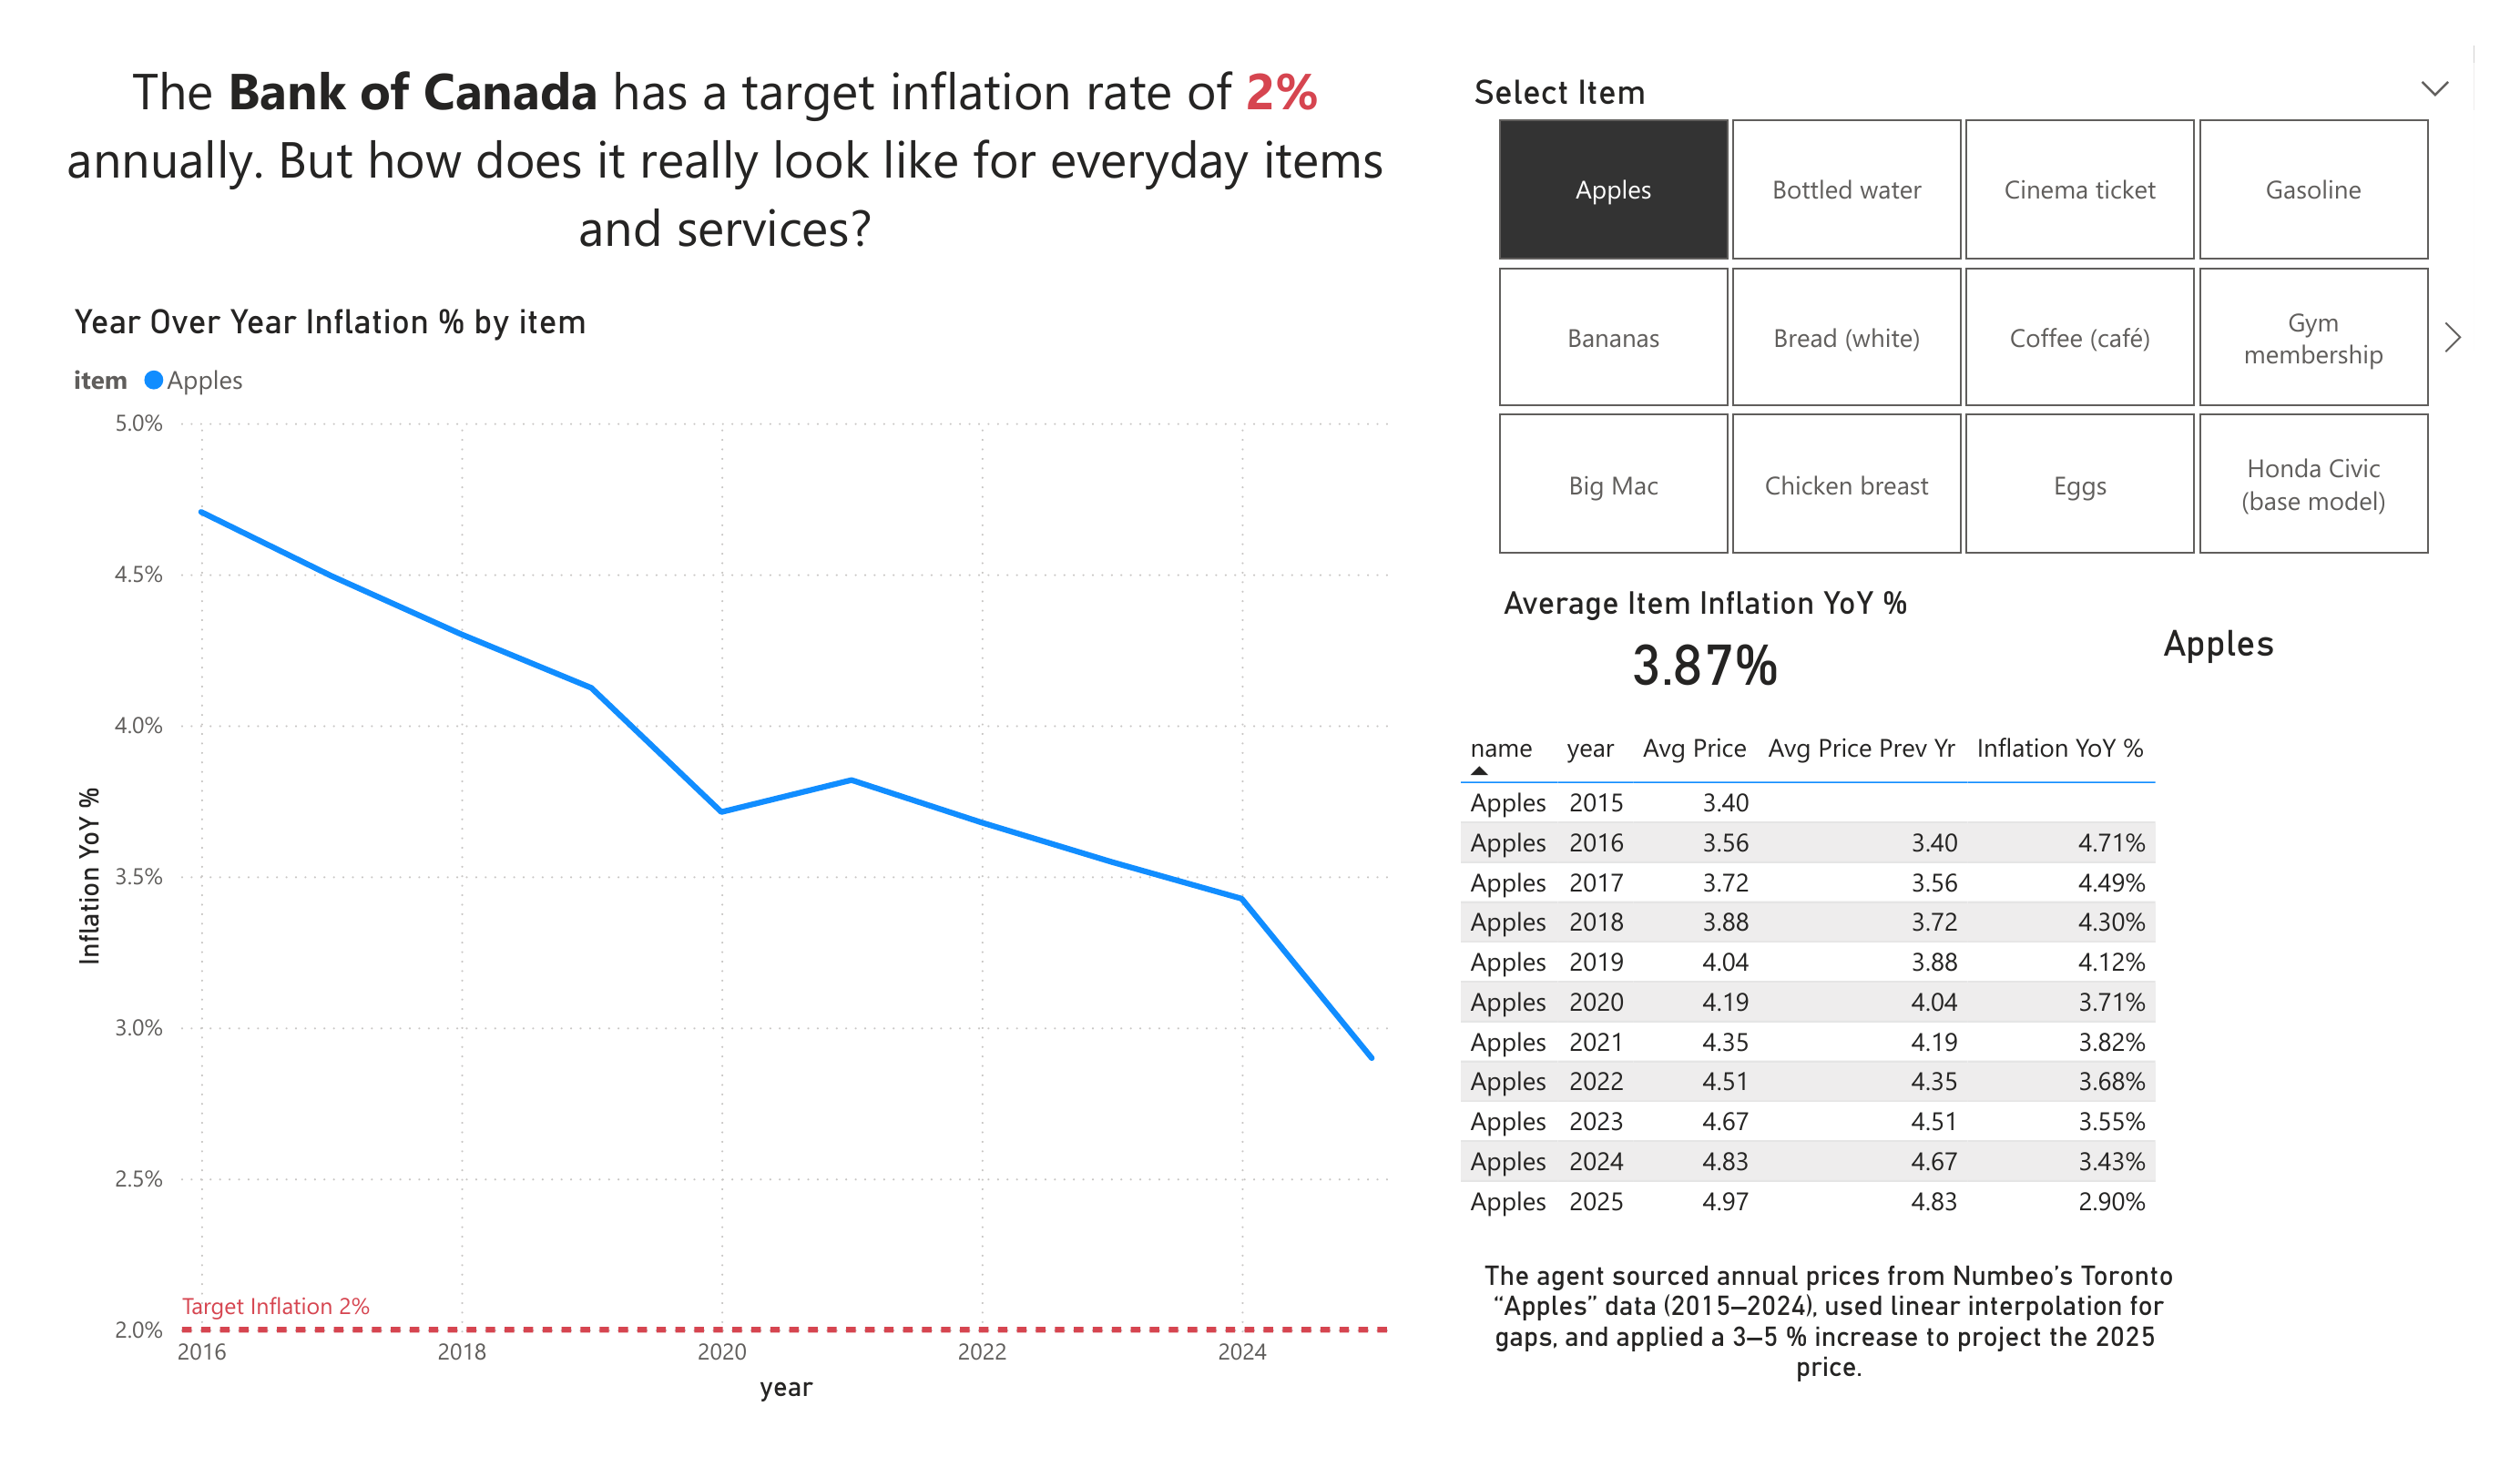

Layout of this report page (visuals, bound fields, positions):
{"tool":"powerbi","page":{"name":"Avg Inflation by Item","canvas":[1280,720],"ordinal":0},"visuals":[{"type":"lineChart","title":"Year Over Year Inflation % by item","fields":{"Category":["Table 2 (item_historical_price).year"],"Series":["Table 1 (item).name"],"Y":["Table 2 (item_historical_price).Inflation YoY %"]},"box":[9.8,134.5,706.8,585.7],"z":0},{"type":"slicer","fields":{"Values":["Table 1 (item).name"]},"box":[739.8,8.6,540.5,266.6],"z":1000},{"type":"tableEx","fields":{"Values":["Table 1 (item).name","Table 2 (item_historical_price).year","Table 2 (item_historical_price).Total Price","Table 2 (item_historical_price).Price Previous Year","Table 2 (item_historical_price).Inflation YoY %"]},"box":[739.8,354.6,540.5,272.7],"z":2000},{"type":"card","fields":{"Values":["Min(Table 1 (item).source_method)"]},"box":[739.8,627.3,399.9,92.9],"z":3000},{"type":"card","title":"Average Item Inflation YoY %","fields":{"Values":["select","Table 2 (item_historical_price).Avg Inflation YoY %"]},"box":[739.8,283.7,270.2,62.4],"z":4000},{"type":"textbox","box":[0,0,716.6,134.5],"z":5000},{"type":"card","fields":{"Values":["Min(Table 1 (item).name)"]},"box":[1011.3,275.1,269,79.5],"z":6000}]}

Visuals, with their boxes on the page's 1280x720 design canvas (x1, y1, x2, y2). These are canvas units, not pixel positions in the 2520x1457 screenshot, which may show the page scaled, cropped or inside an application window:
"Year Over Year Inflation % by item" lineChart: bbox=(10, 134, 717, 720)
slicer - Table 1 (item).name: bbox=(740, 9, 1280, 275)
tableEx - Table 1 (item).name x Table 2 (item_historical_price).year: bbox=(740, 355, 1280, 627)
card - Min(Table 1 (item).source_method): bbox=(740, 627, 1140, 720)
"Average Item Inflation YoY %" card: bbox=(740, 284, 1010, 346)
textbox: bbox=(0, 0, 717, 134)
card - Min(Table 1 (item).name): bbox=(1011, 275, 1280, 355)
